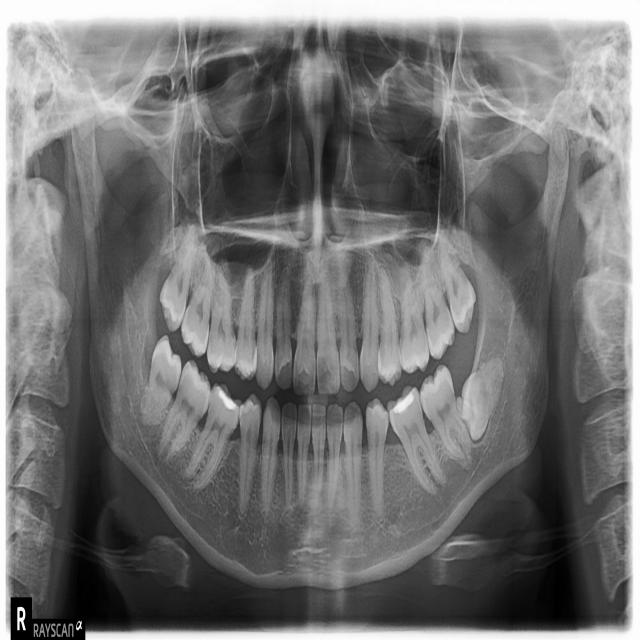mandibula: (71, 96, 571, 588)
